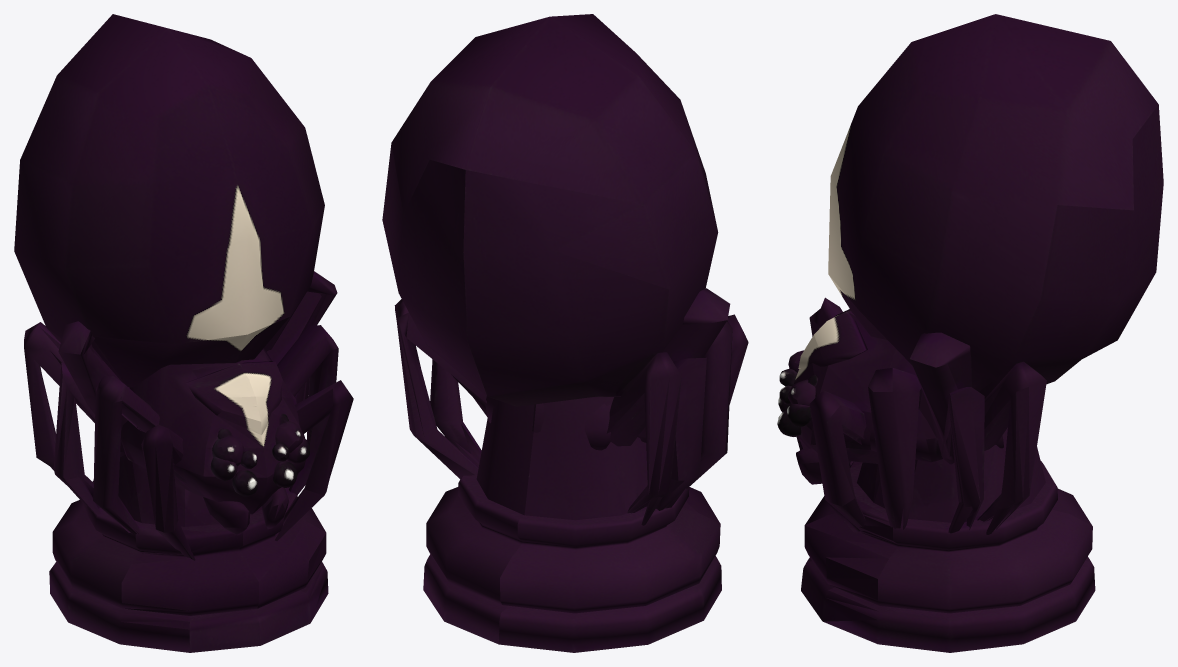
The model's file is Meshy_AI_Midnight_Geometric_Sp_0726160145_texture.glb.
3 views of the same model, side by side, from view 1: azimuth 30°, elevation 25°; view 2: azimuth 150°, elevation 25°; view 3: azimuth 270°, elevation 25° (orthographic). The views are drawn at different scales.
Visible parts, largest first — view 1: mesh_node; view 2: mesh_node; view 3: mesh_node.
Part boxes in pixels (bbox=[...]): mesh_node: bbox=[14, 14, 353, 652]; mesh_node: bbox=[382, 14, 748, 652]; mesh_node: bbox=[777, 14, 1163, 652].
Bounding box in the file's own units: 0.5254 × 1 × 0.6074.
1 material, 1 textured.
